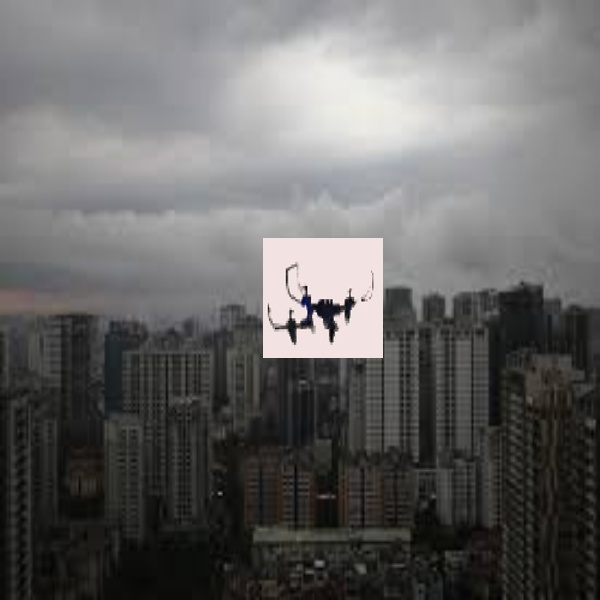drone: (265, 254, 376, 353)
